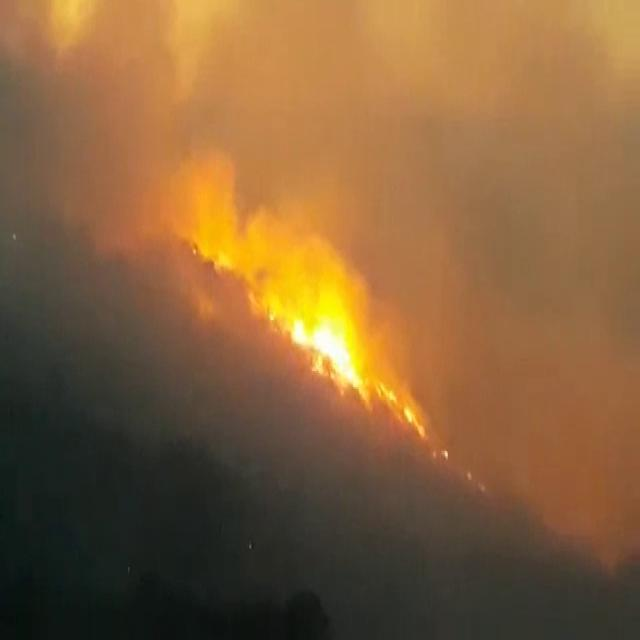Fire: (146, 160, 370, 395), (436, 426, 495, 506), (375, 382, 429, 434)
Smoke: (9, 0, 248, 282)
